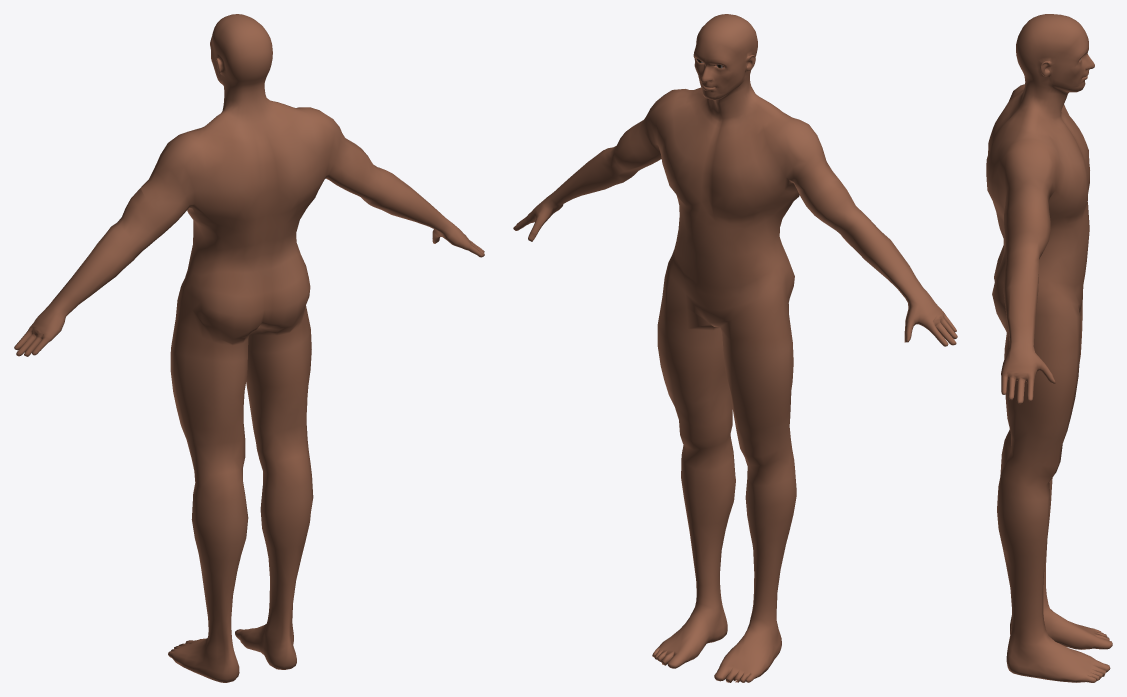
File: MALE CHARACTER.fbx
3 renders of one model, left to right at view 1: azimuth 30°, elevation 25°; view 2: azimuth 150°, elevation 25°; view 3: azimuth 270°, elevation 25°, orthographic.
Visible parts, largest first — view 1: MALE CHARACTER; view 2: MALE CHARACTER; view 3: MALE CHARACTER.
Boxes of the visible parts, box(x1,y1,x2,y2) form: MALE CHARACTER: box(14, 14, 484, 682); MALE CHARACTER: box(513, 14, 957, 682); MALE CHARACTER: box(986, 14, 1112, 682).
Bounding box in the file's own units: 105 × 141 × 25.18.
Materials: 1 (1 with a texture image).
